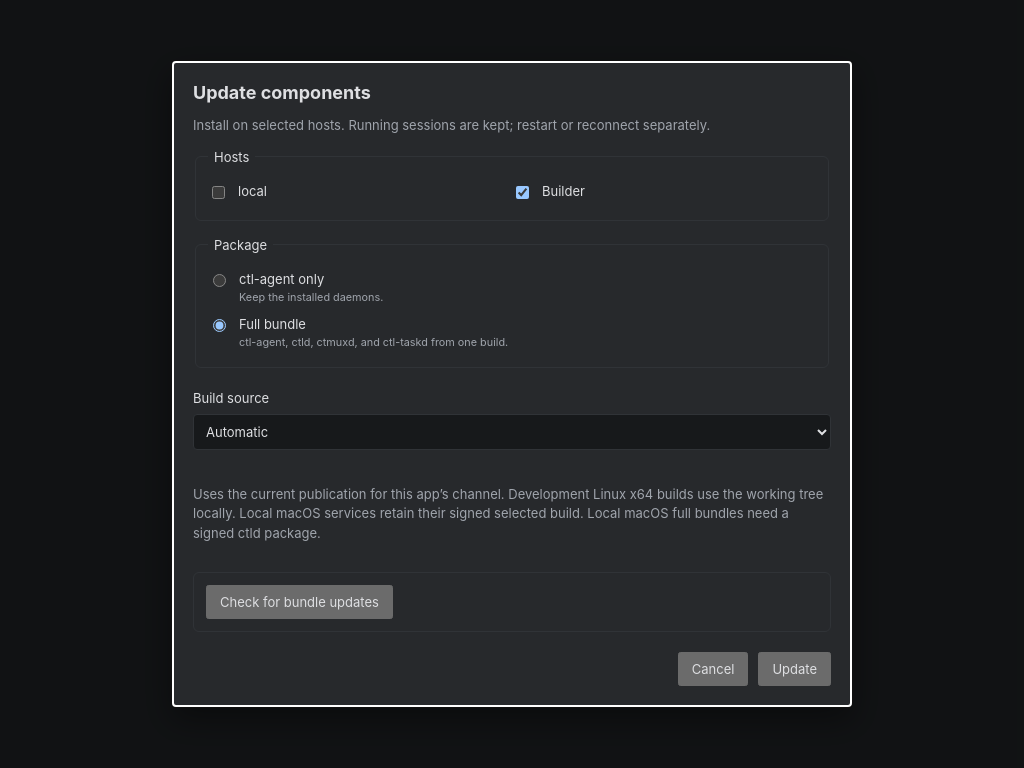
Test: prefills a host, permits several hosts, and sends the chosen package and supplied build
Check: the checkbox labelled "Builder" is checked, box [516, 186, 529, 199]
Check: the number of radio buttons is 2, box [213, 274, 226, 287]; [213, 319, 226, 332]
Step 1. Click the checkbox labelled "local" → coordinates (218, 192), box [212, 186, 225, 199]
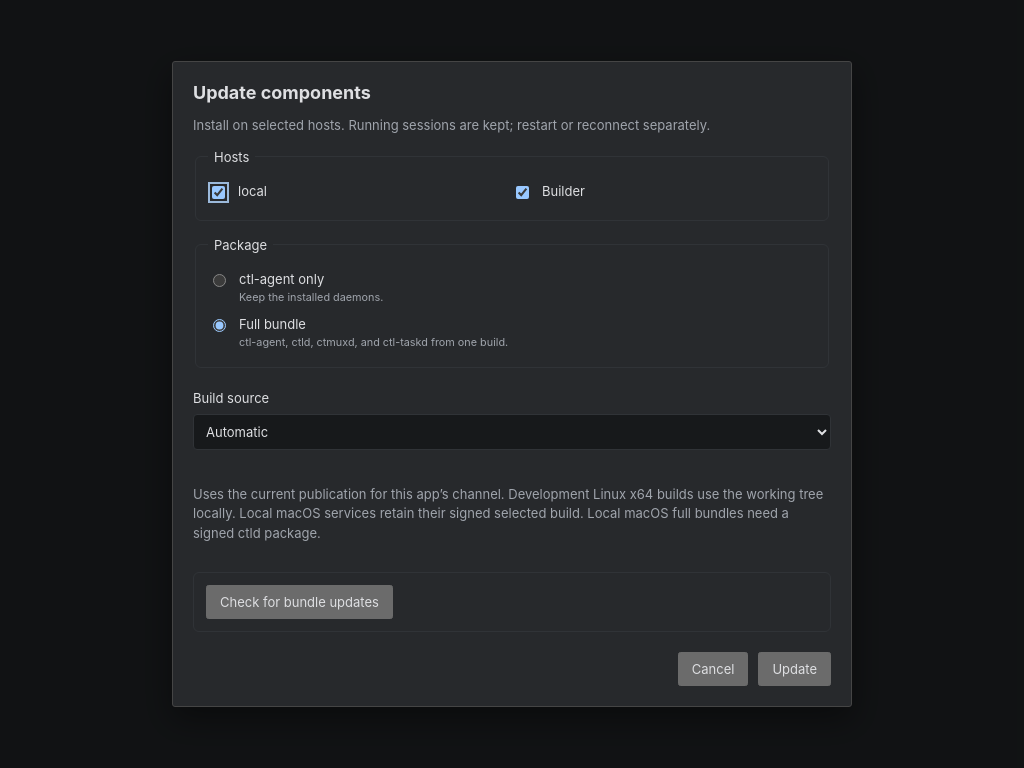
Step 2. Click the radio button labelled "ctl-agent only Keep the installed daemons." → coordinates (220, 280), box [213, 274, 226, 287]
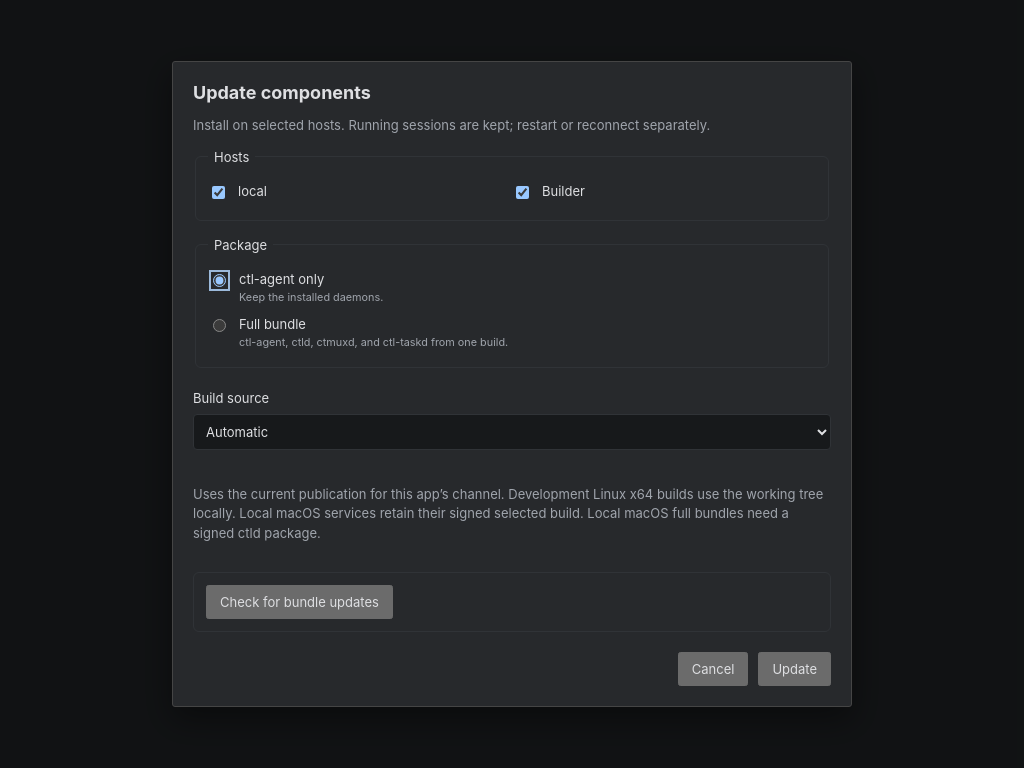
Step 3. Select "Provided build files" in the dropdown labelled "Build source" → coordinates (512, 432), box [193, 414, 831, 450]
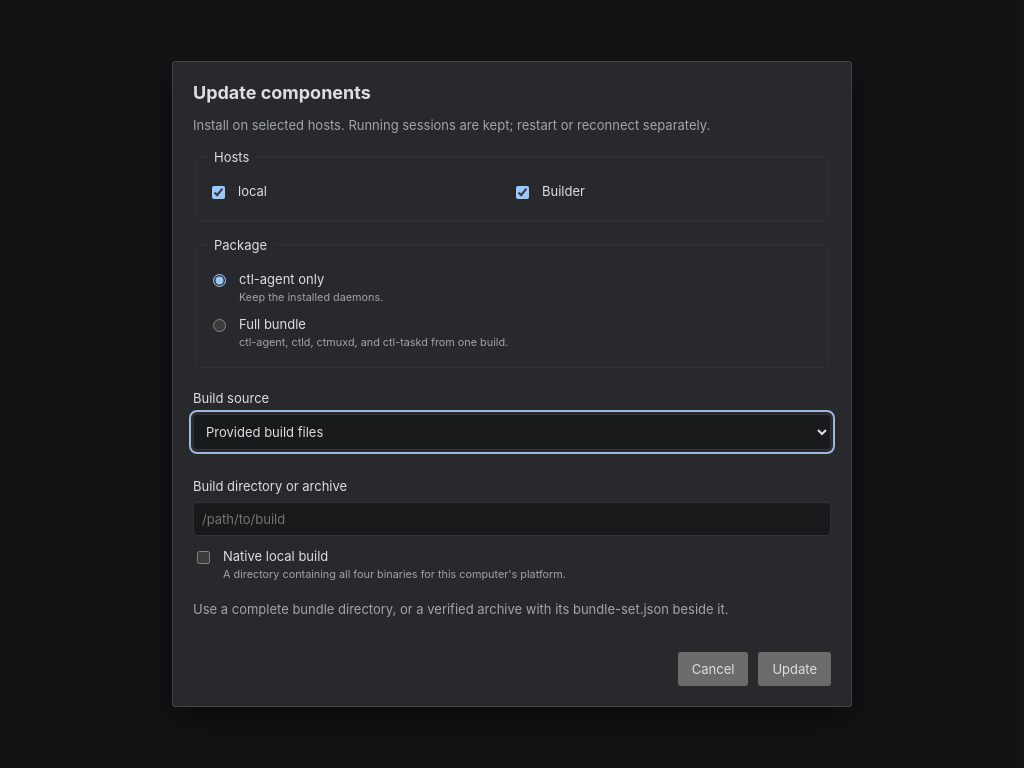
Step 4. Type "/tmp/build directory" into the field labelled "Build directory or archive" → coordinates (512, 519), box [193, 502, 831, 536]
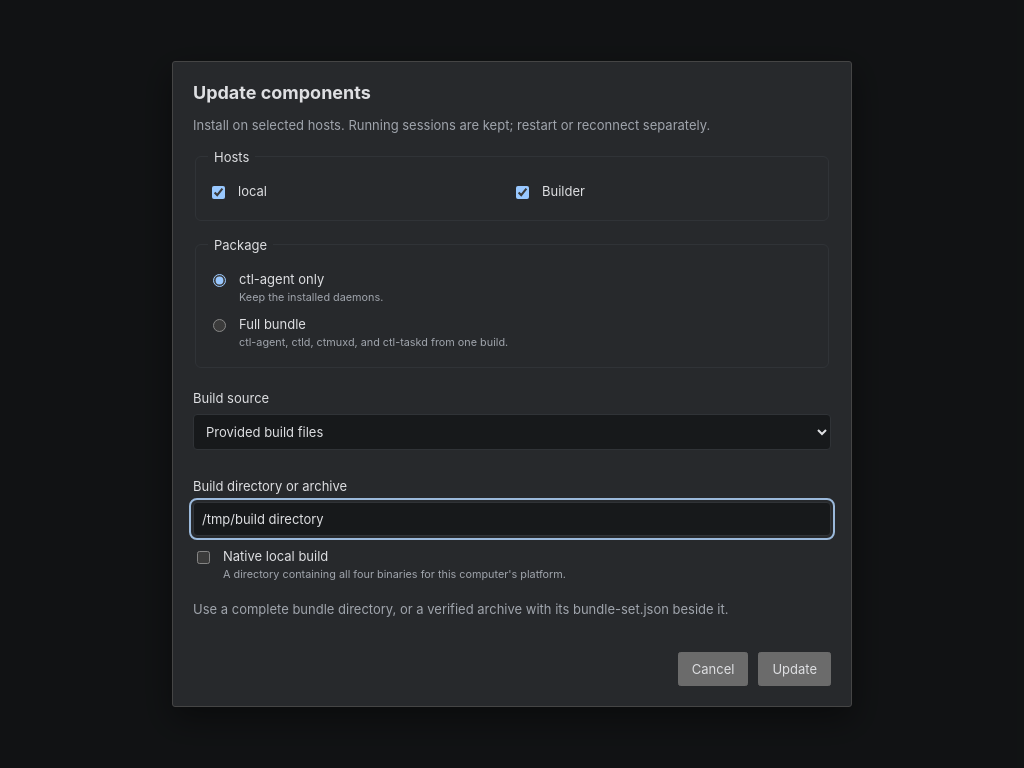
Step 5. Click the button "Update" → coordinates (795, 669), box [758, 652, 831, 686]
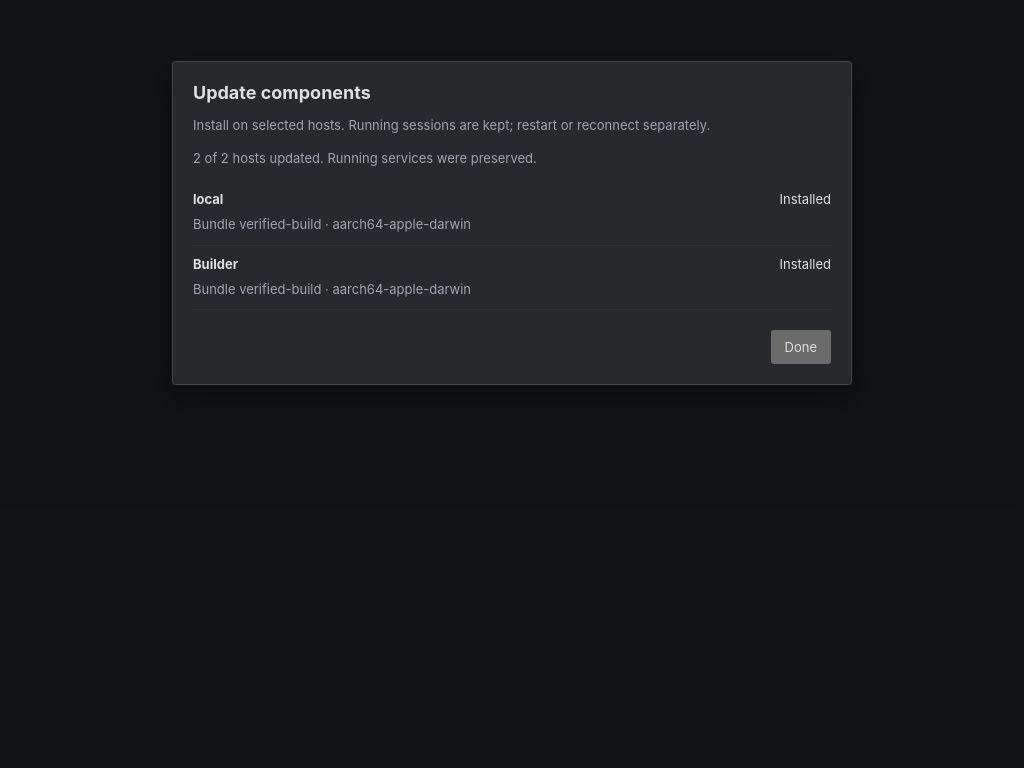
Check: the text "2 of 2 hosts updated. Running services were preserved." is shown, box [193, 150, 537, 166]
